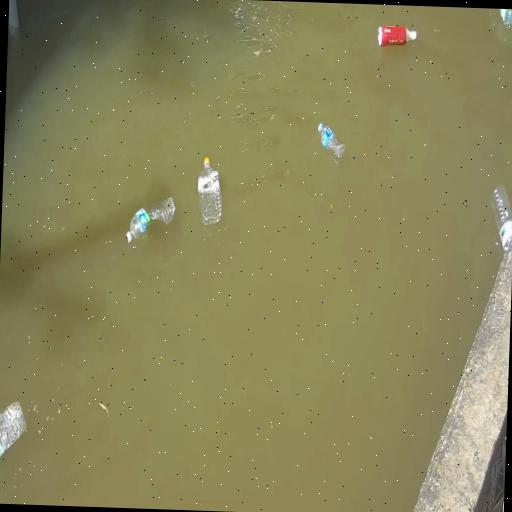plastic: (125, 195, 175, 244), (198, 158, 222, 225), (490, 184, 512, 252), (0, 402, 26, 457), (318, 123, 344, 157), (378, 26, 416, 46), (500, 9, 511, 25)
